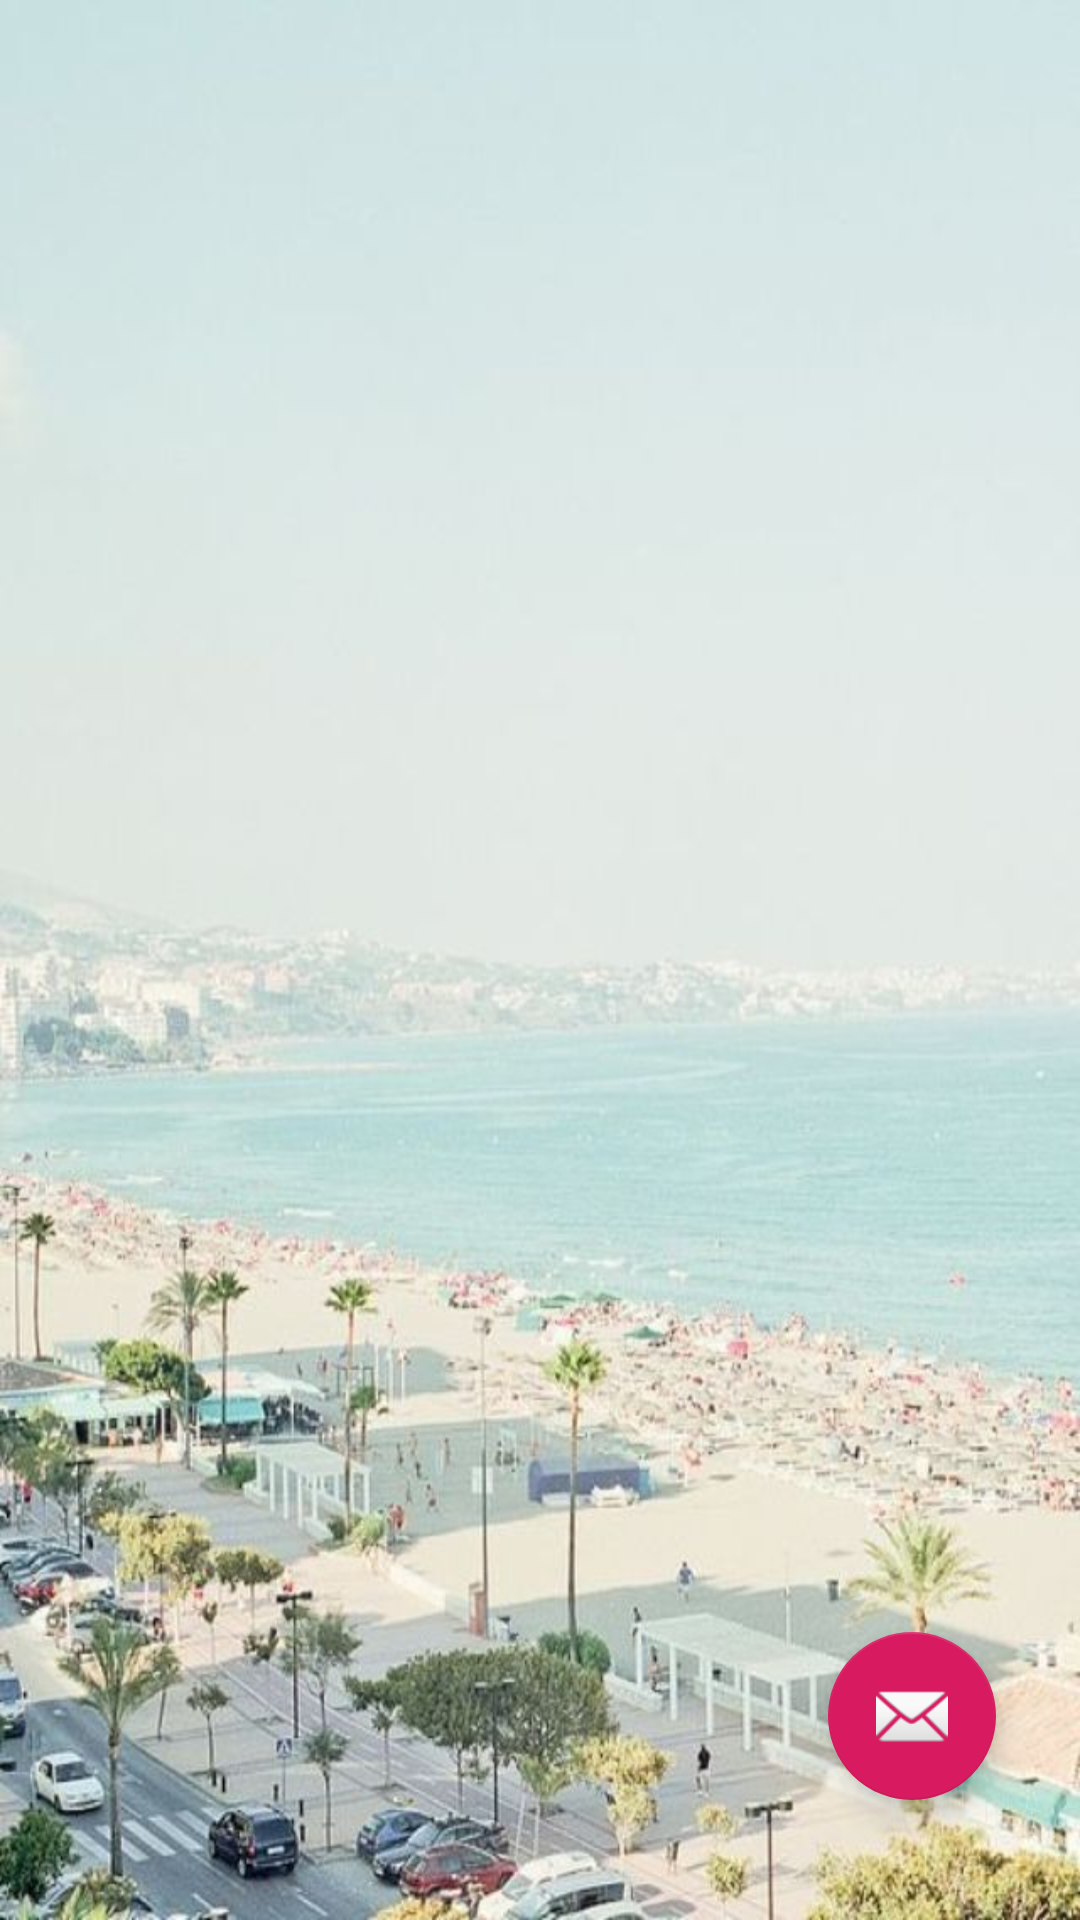

Named icons in this screenshot (1080x1920) and their centers, point (x, y):
email: point (912, 1716)
